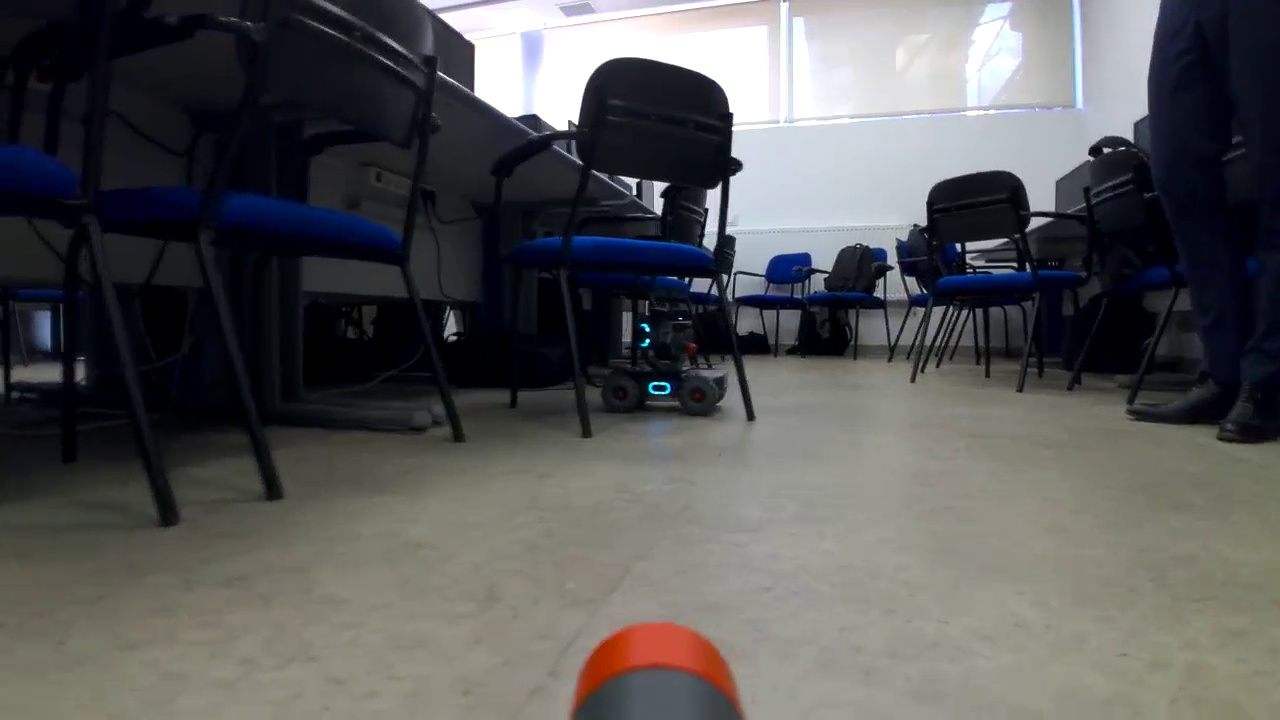robot: (596, 294, 739, 423)
